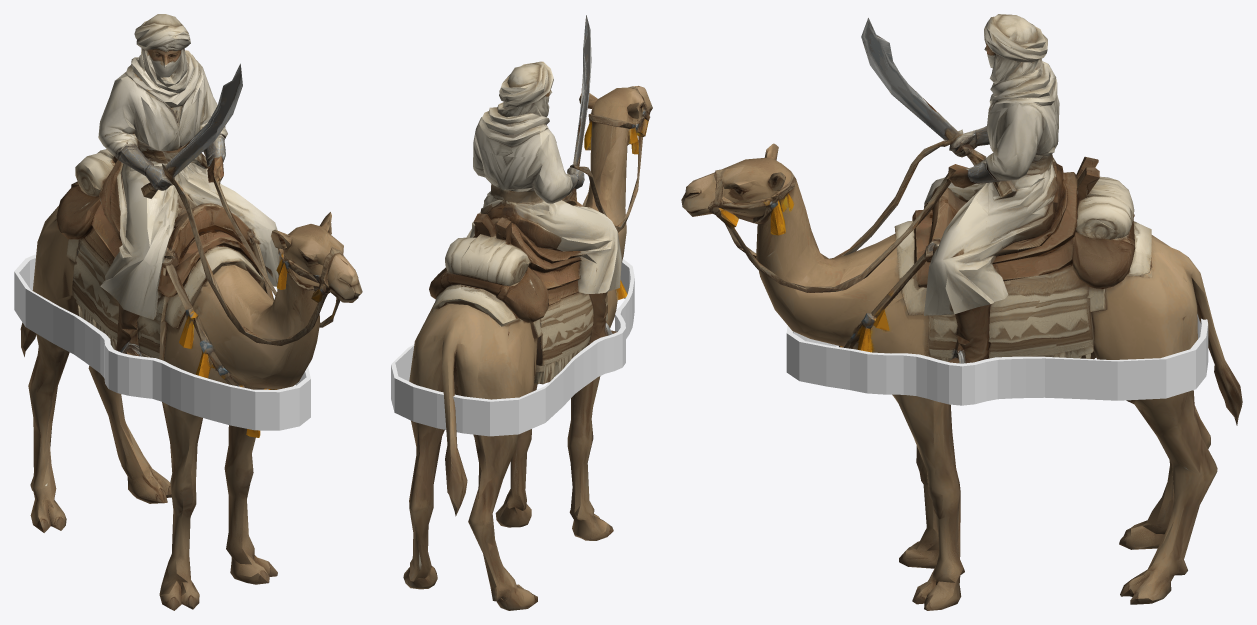
The model's file is dune_camel_rider.glb.
The picture shows the model from 3 angles, left to right: view 1: azimuth 30°, elevation 25°; view 2: azimuth 150°, elevation 25°; view 3: azimuth 270°, elevation 25°; orthographic projection. The views are drawn at different scales.
Visible parts, largest first — view 1: dune_camel_rider, Team_band; view 2: dune_camel_rider, Team_band; view 3: dune_camel_rider, Team_band.
Part boxes in pixels (x1,y1,x2,y2): dune_camel_rider: [20, 14, 362, 610]; Team_band: [14, 254, 310, 430]; dune_camel_rider: [403, 15, 652, 610]; Team_band: [391, 259, 634, 436]; dune_camel_rider: [681, 14, 1242, 610]; Team_band: [786, 314, 1208, 405].
Size of the model in its own units: 0.618 by 1.89 by 1.71.
2 materials, 1 textured.
